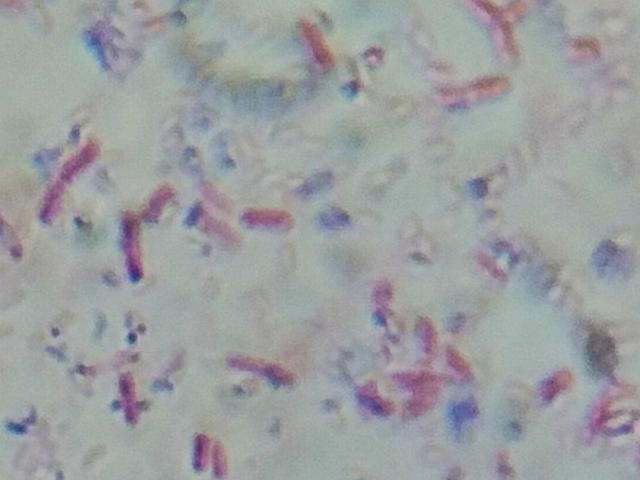E. coli: (472, 0, 521, 57), (341, 377, 402, 421), (295, 17, 343, 69), (231, 206, 304, 240), (228, 347, 293, 385), (116, 205, 151, 275), (448, 67, 510, 103), (362, 270, 403, 321), (65, 136, 107, 183), (35, 175, 72, 227), (115, 370, 145, 429), (408, 313, 437, 369), (589, 397, 622, 440), (139, 180, 177, 215), (212, 437, 235, 480), (539, 362, 564, 401), (445, 345, 472, 381), (189, 425, 206, 473), (395, 370, 425, 386), (566, 470, 566, 471)
